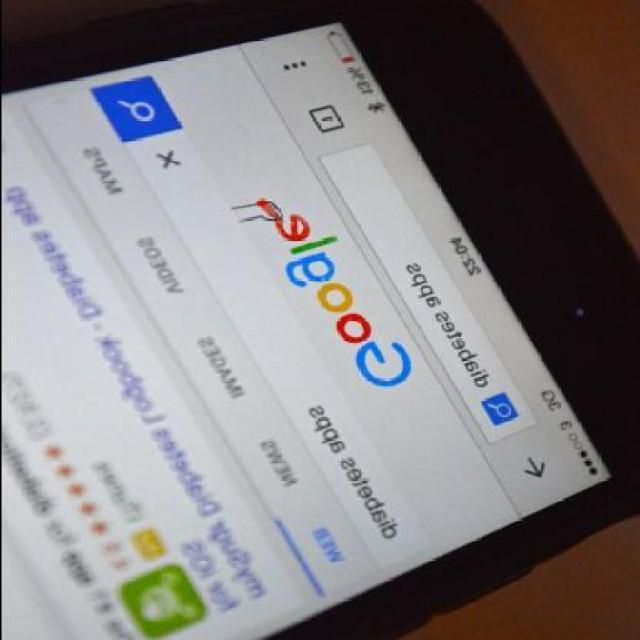phone: (12, 14, 640, 618)
